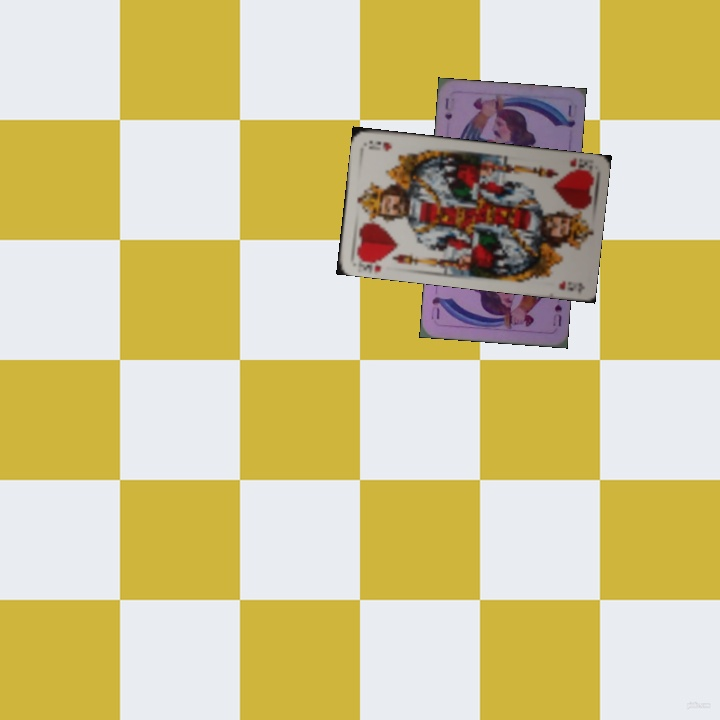HK: (353, 252, 388, 274), (565, 155, 593, 176)
SU: (548, 300, 564, 331), (441, 94, 455, 123)
